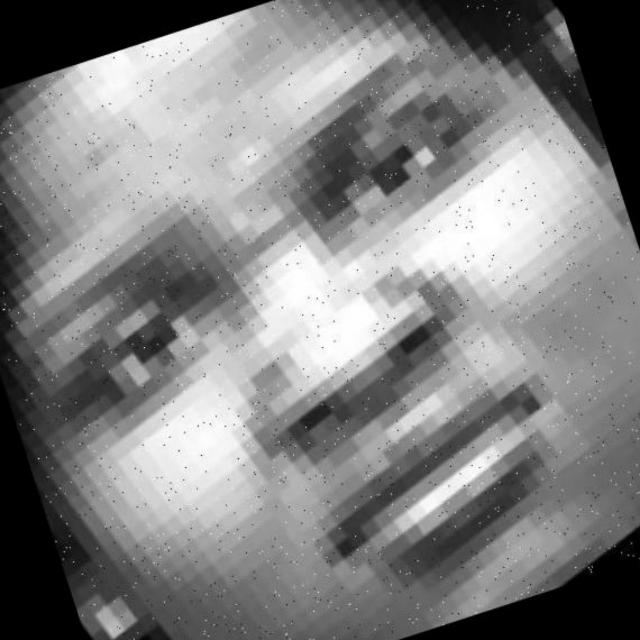Disgust: (8, 33, 640, 640)
